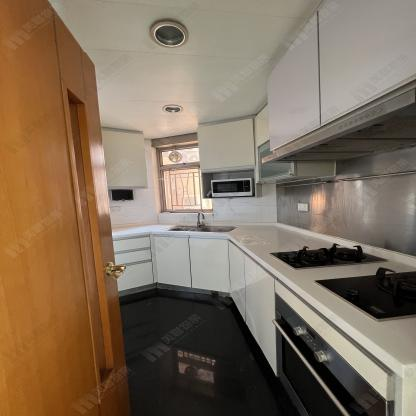Cupboard: (114, 235, 278, 372), (270, 1, 415, 147)
Exhaust Fan: (168, 150, 183, 164)
Exhaust Hood: (261, 87, 416, 165)
Faucet: (194, 210, 206, 227)
Microwave: (211, 176, 257, 195)
Sink: (162, 225, 237, 232)
Stove: (317, 265, 416, 320), (268, 243, 388, 268)
